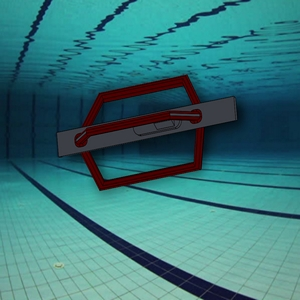submarine: (50, 64, 269, 215)
